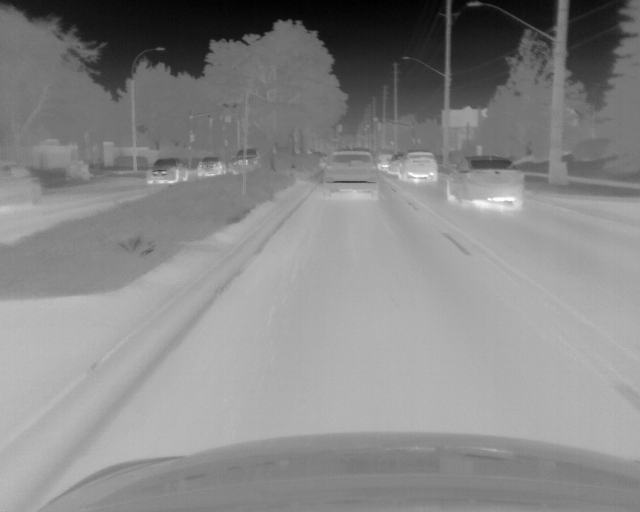car: (444, 156, 524, 209), (323, 152, 377, 198), (400, 151, 437, 181), (145, 158, 187, 184), (232, 148, 257, 168), (198, 158, 226, 175), (388, 154, 400, 173), (379, 153, 388, 170)
